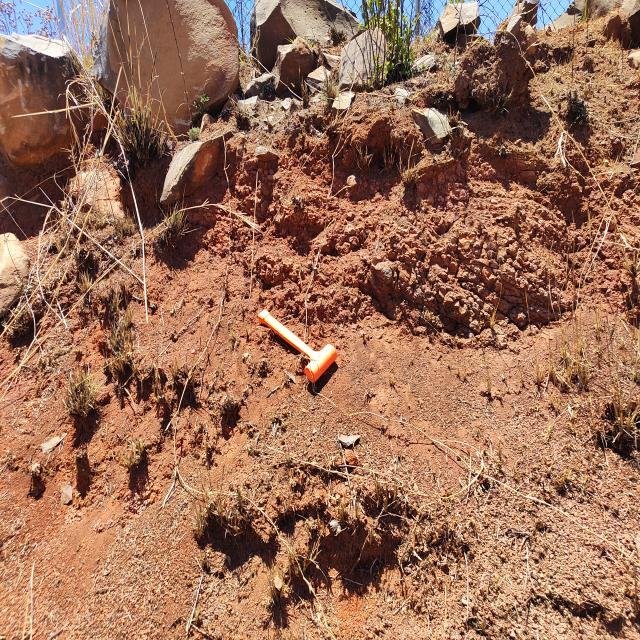Orange_hammer: (256, 307, 338, 384)
